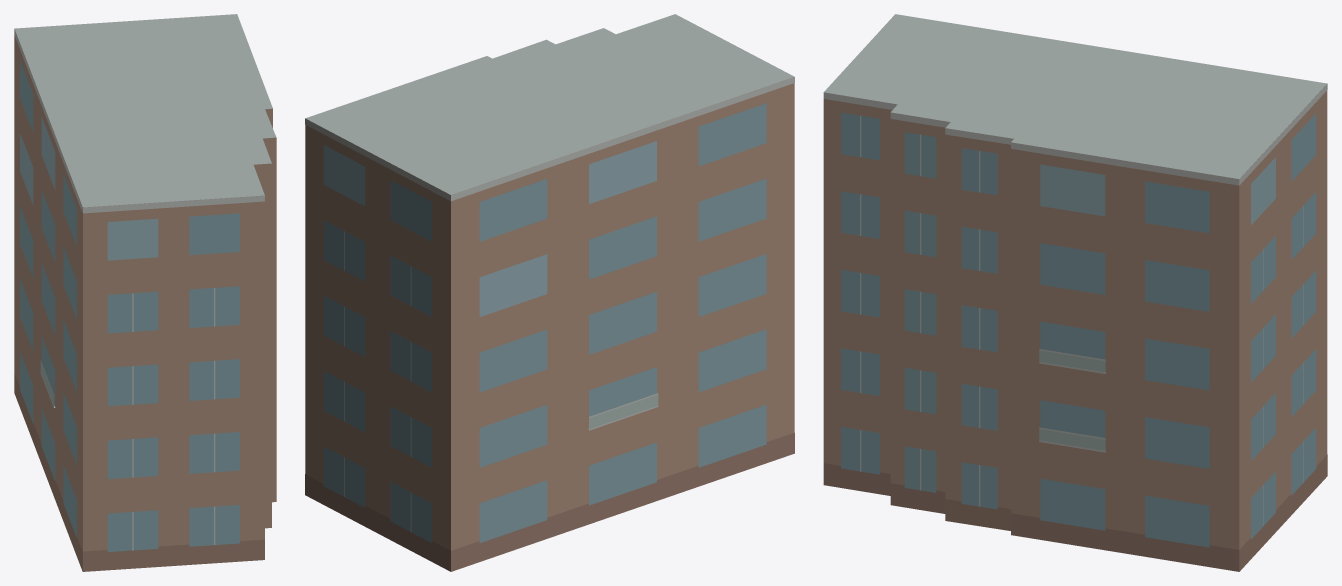
File: survey-upis-32708231.glb
The picture shows the model from 3 angles, left to right: view 1: azimuth 30°, elevation 25°; view 2: azimuth 150°, elevation 25°; view 3: azimuth 270°, elevation 25°; orthographic projection. The views are drawn at different scales.
Parts seen in each view (by area): view 1: survey-upis-32708231.tmp; view 2: survey-upis-32708231.tmp; view 3: survey-upis-32708231.tmp.
Part boxes in pixels (<box>): survey-upis-32708231.tmp: <box>14,14,276,571</box>; survey-upis-32708231.tmp: <box>305,14,794,571</box>; survey-upis-32708231.tmp: <box>823,14,1327,571</box>.
Bounding box in the file's own units: 13.4 × 14.85 × 17.28.
